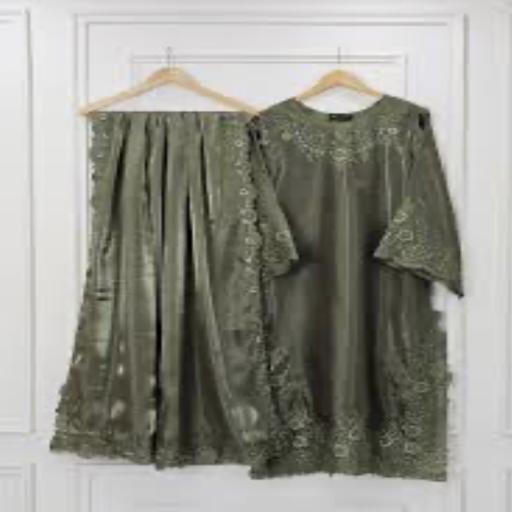dupatta: (238, 86, 470, 486), (56, 94, 264, 468)
